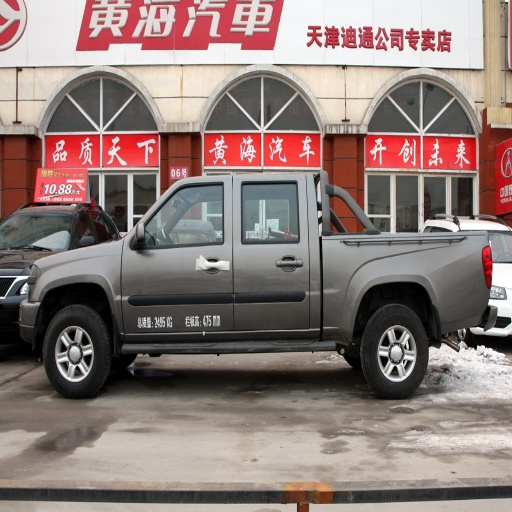back_glass: (234, 169, 314, 329)
front_glass: (121, 176, 233, 334)
tailgate: (319, 238, 484, 340)
trunk: (360, 304, 429, 397), (43, 305, 107, 396)
